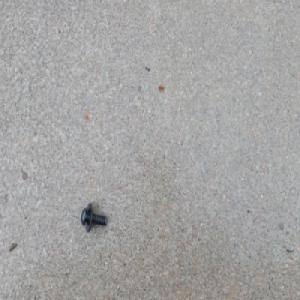BoltWasher: (80, 201, 107, 232)
